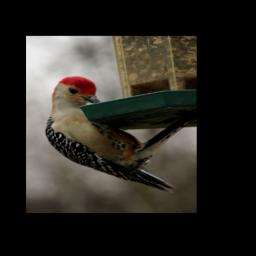Woodpecker: (46, 76, 178, 197)
